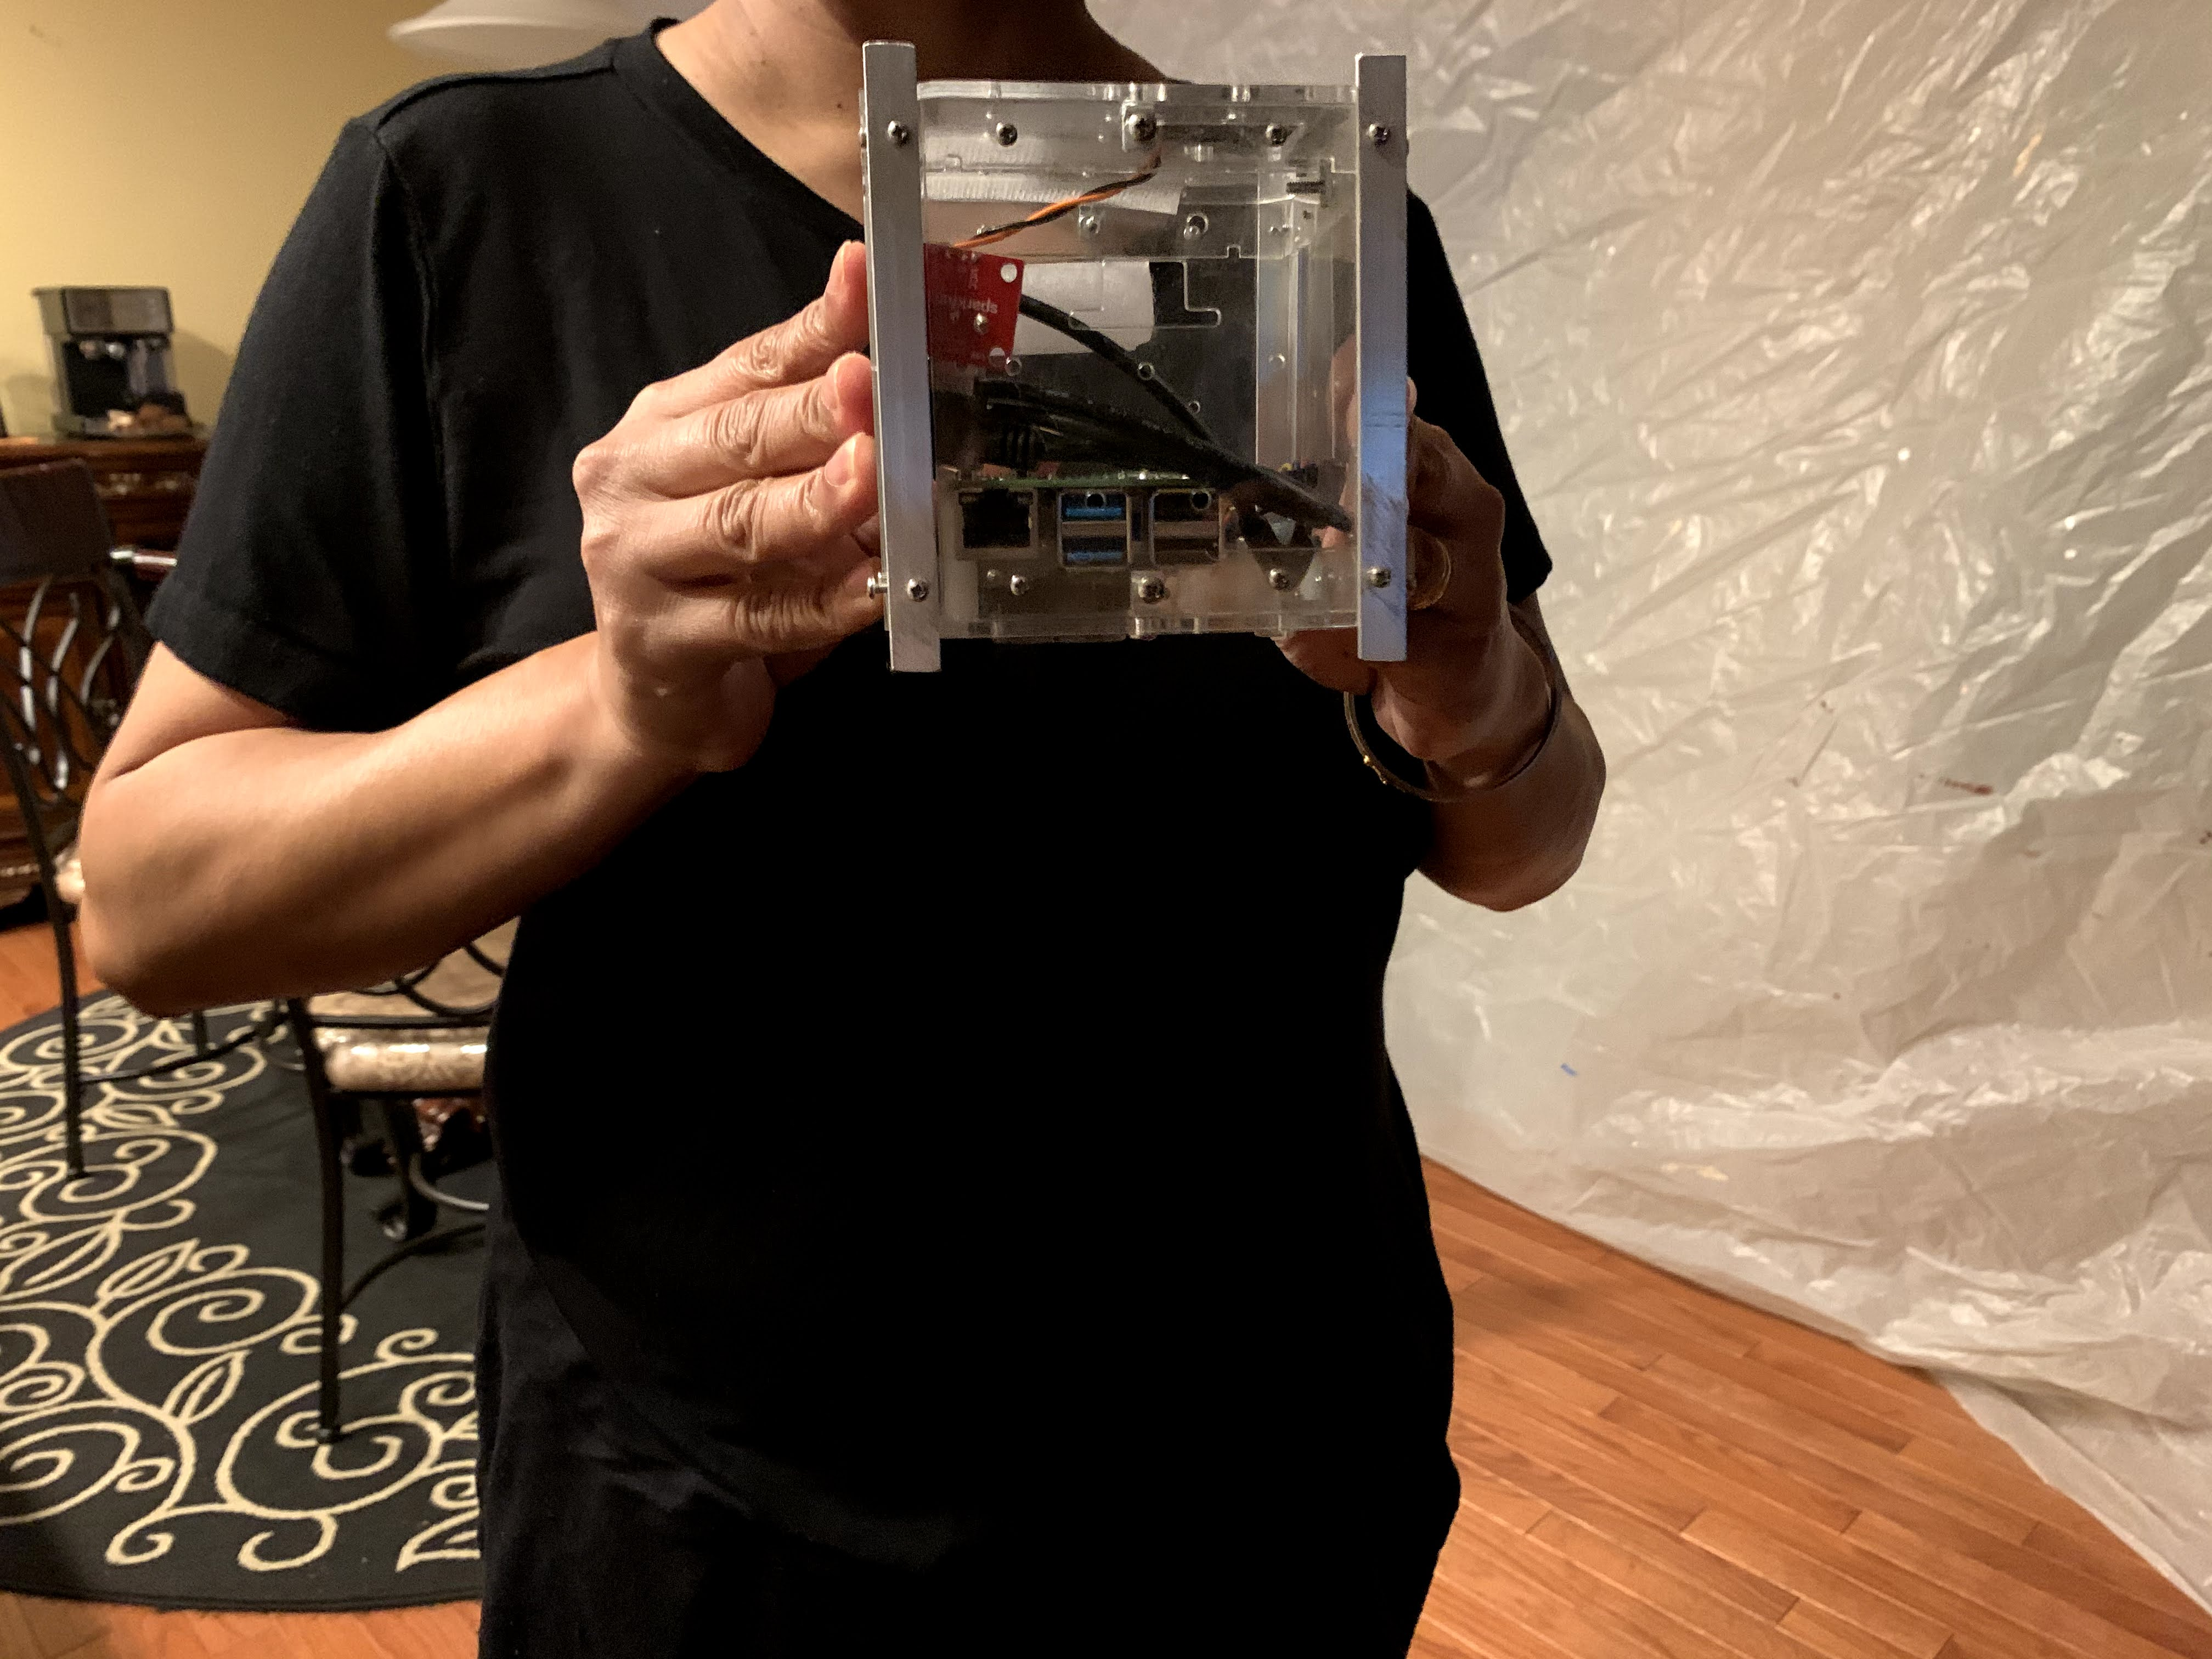Space-debris-cubesat: (829, 26, 1453, 687)
